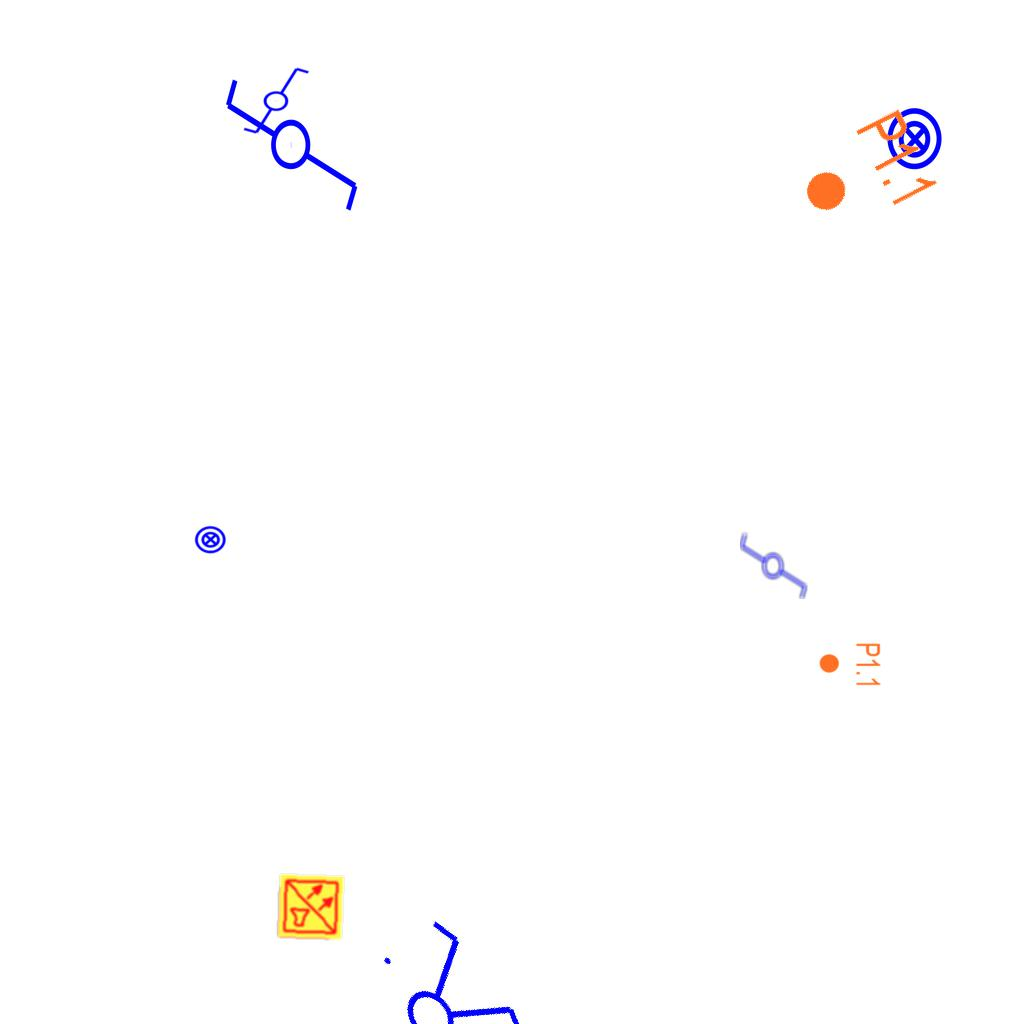Downlight_LED_Einbauleuchten_Flur: (786, 104, 943, 246), (818, 642, 882, 688)
OKW_Multisensormelder_(Kombination_optischer_Rauch-Kahlenmonoxid_Waerme-Melder): (276, 872, 346, 942)
Serienschalter: (360, 903, 540, 1024)
Taster_beleuchtet: (882, 106, 948, 172), (194, 523, 227, 556)
Wechselschalter: (221, 58, 365, 215), (738, 523, 810, 601), (233, 64, 311, 136)
